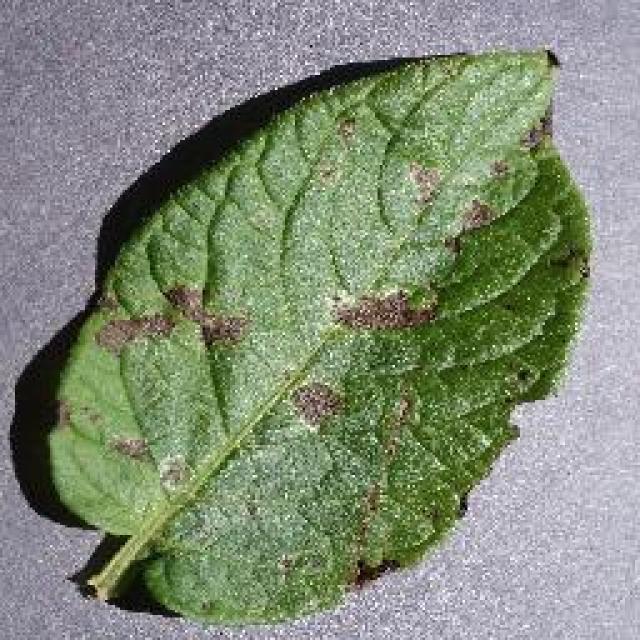early_blight: (42, 42, 598, 628)
